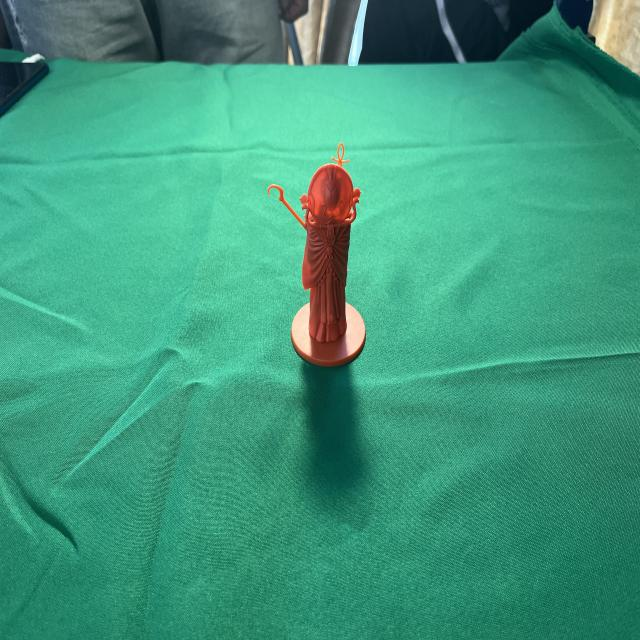amon: (264, 135, 370, 372)
